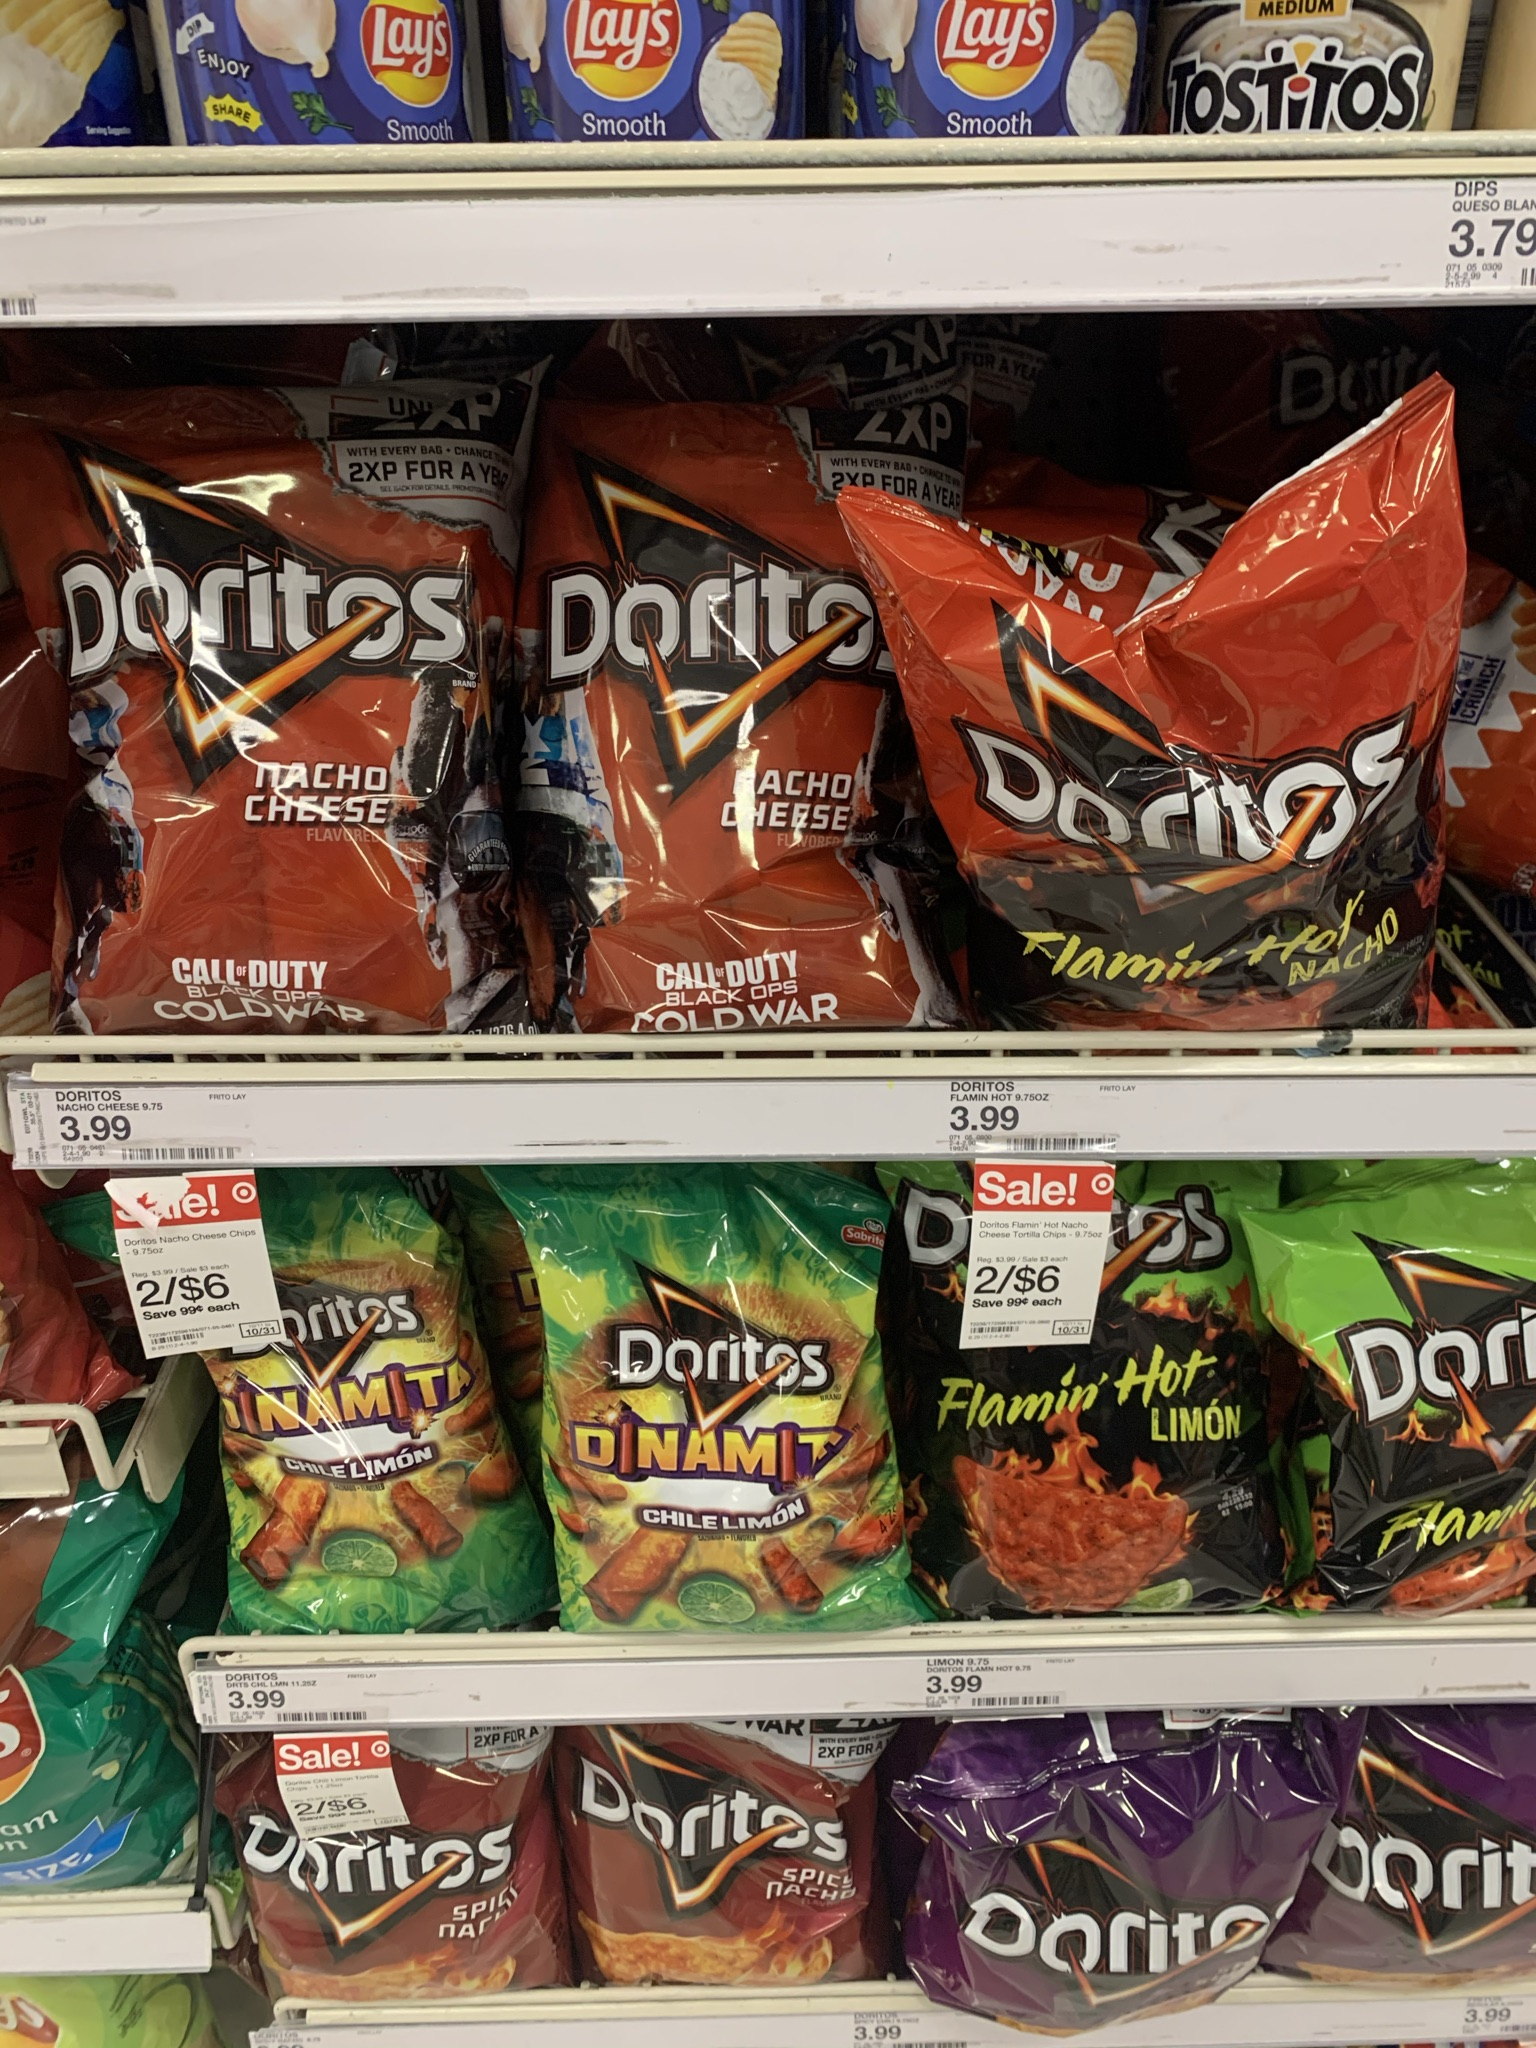Chips: (849, 489, 1452, 1030), (15, 403, 505, 1032), (537, 411, 913, 1014), (503, 1158, 921, 1624), (918, 1193, 1299, 1609), (132, 1201, 490, 1624), (900, 1755, 1333, 2017), (552, 1724, 878, 1988)
